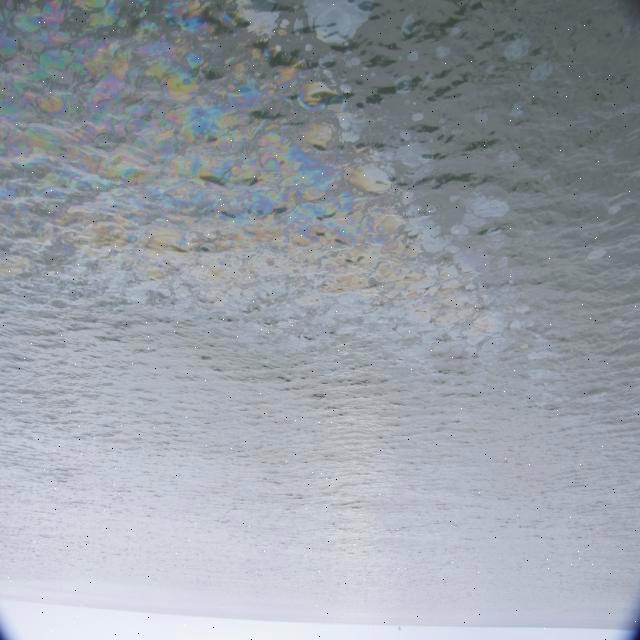oil: (0, 11, 555, 386)
